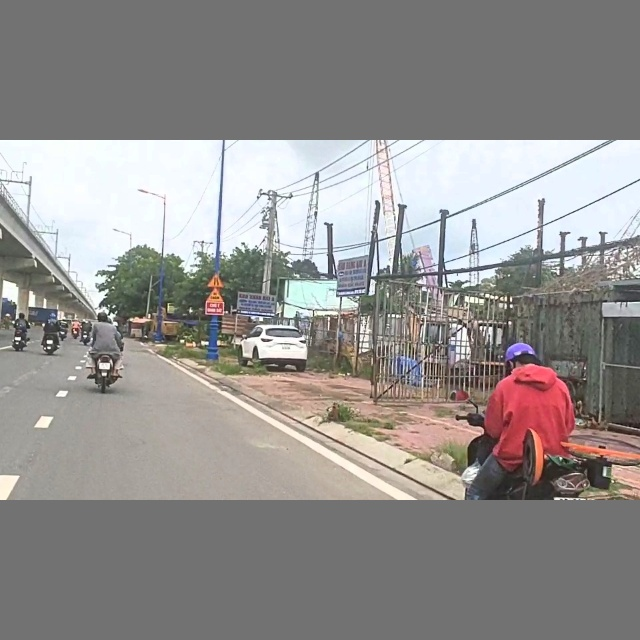W.203c: (207, 272, 225, 288)
W.245a: (205, 289, 227, 302)
